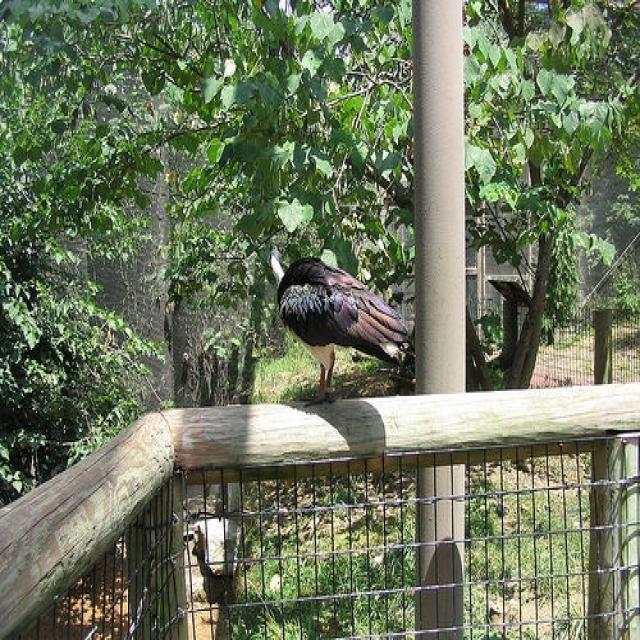bird: (271, 244, 407, 410)
